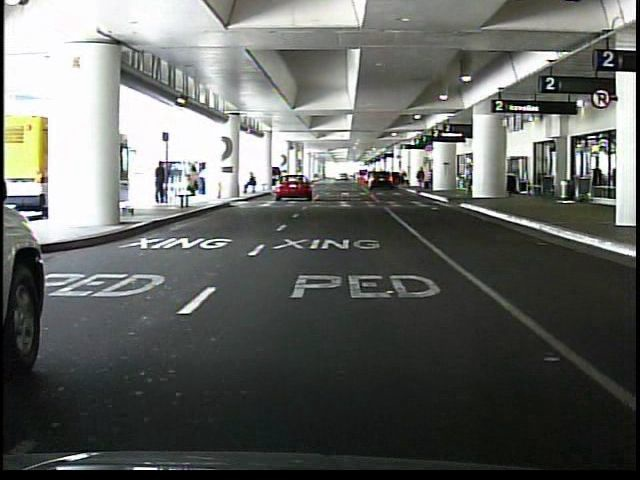person: (155, 163, 169, 206), (463, 162, 474, 200), (241, 172, 258, 195), (417, 166, 427, 192)
